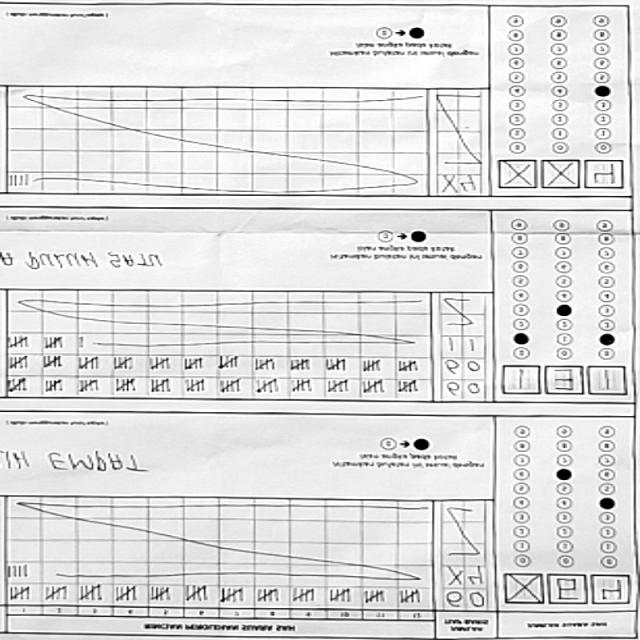Suara: (498, 362, 628, 400), (493, 159, 627, 193), (498, 573, 630, 607)
